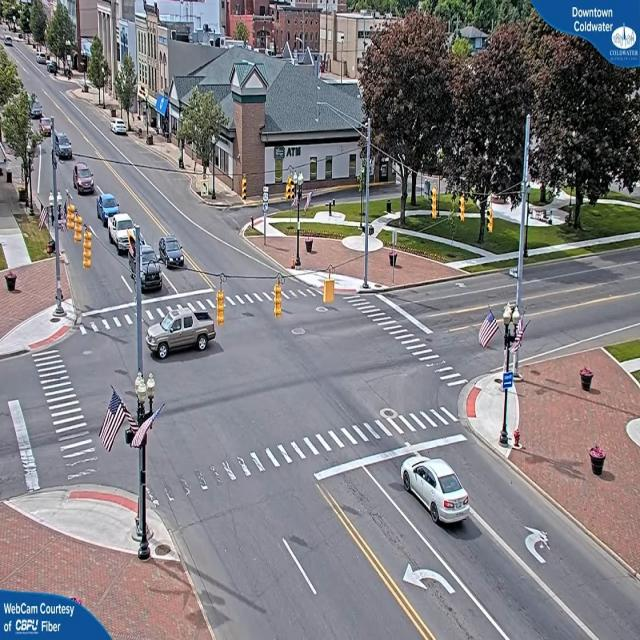car: (141, 296, 218, 360), (401, 457, 468, 529), (140, 249, 166, 293), (108, 214, 134, 254), (158, 234, 185, 267), (72, 164, 95, 195), (53, 132, 73, 160), (112, 121, 130, 138), (2, 38, 12, 48), (4, 36, 14, 46)
